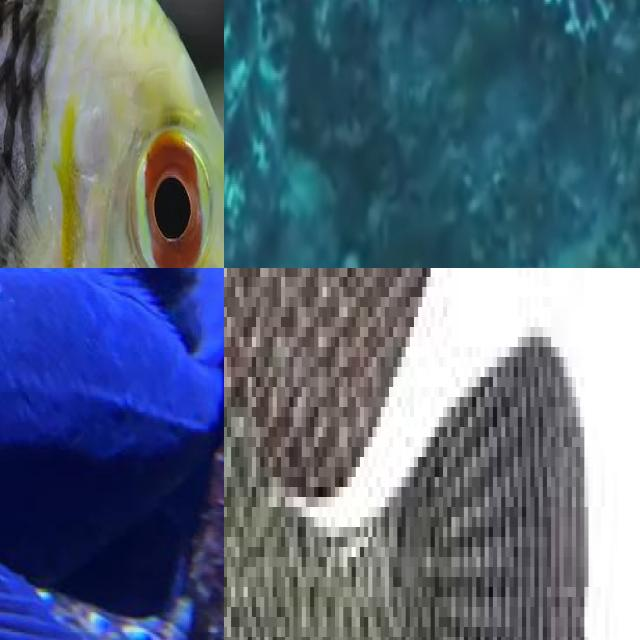fish: (224, 268, 505, 640), (0, 268, 224, 640), (0, 0, 224, 268)
